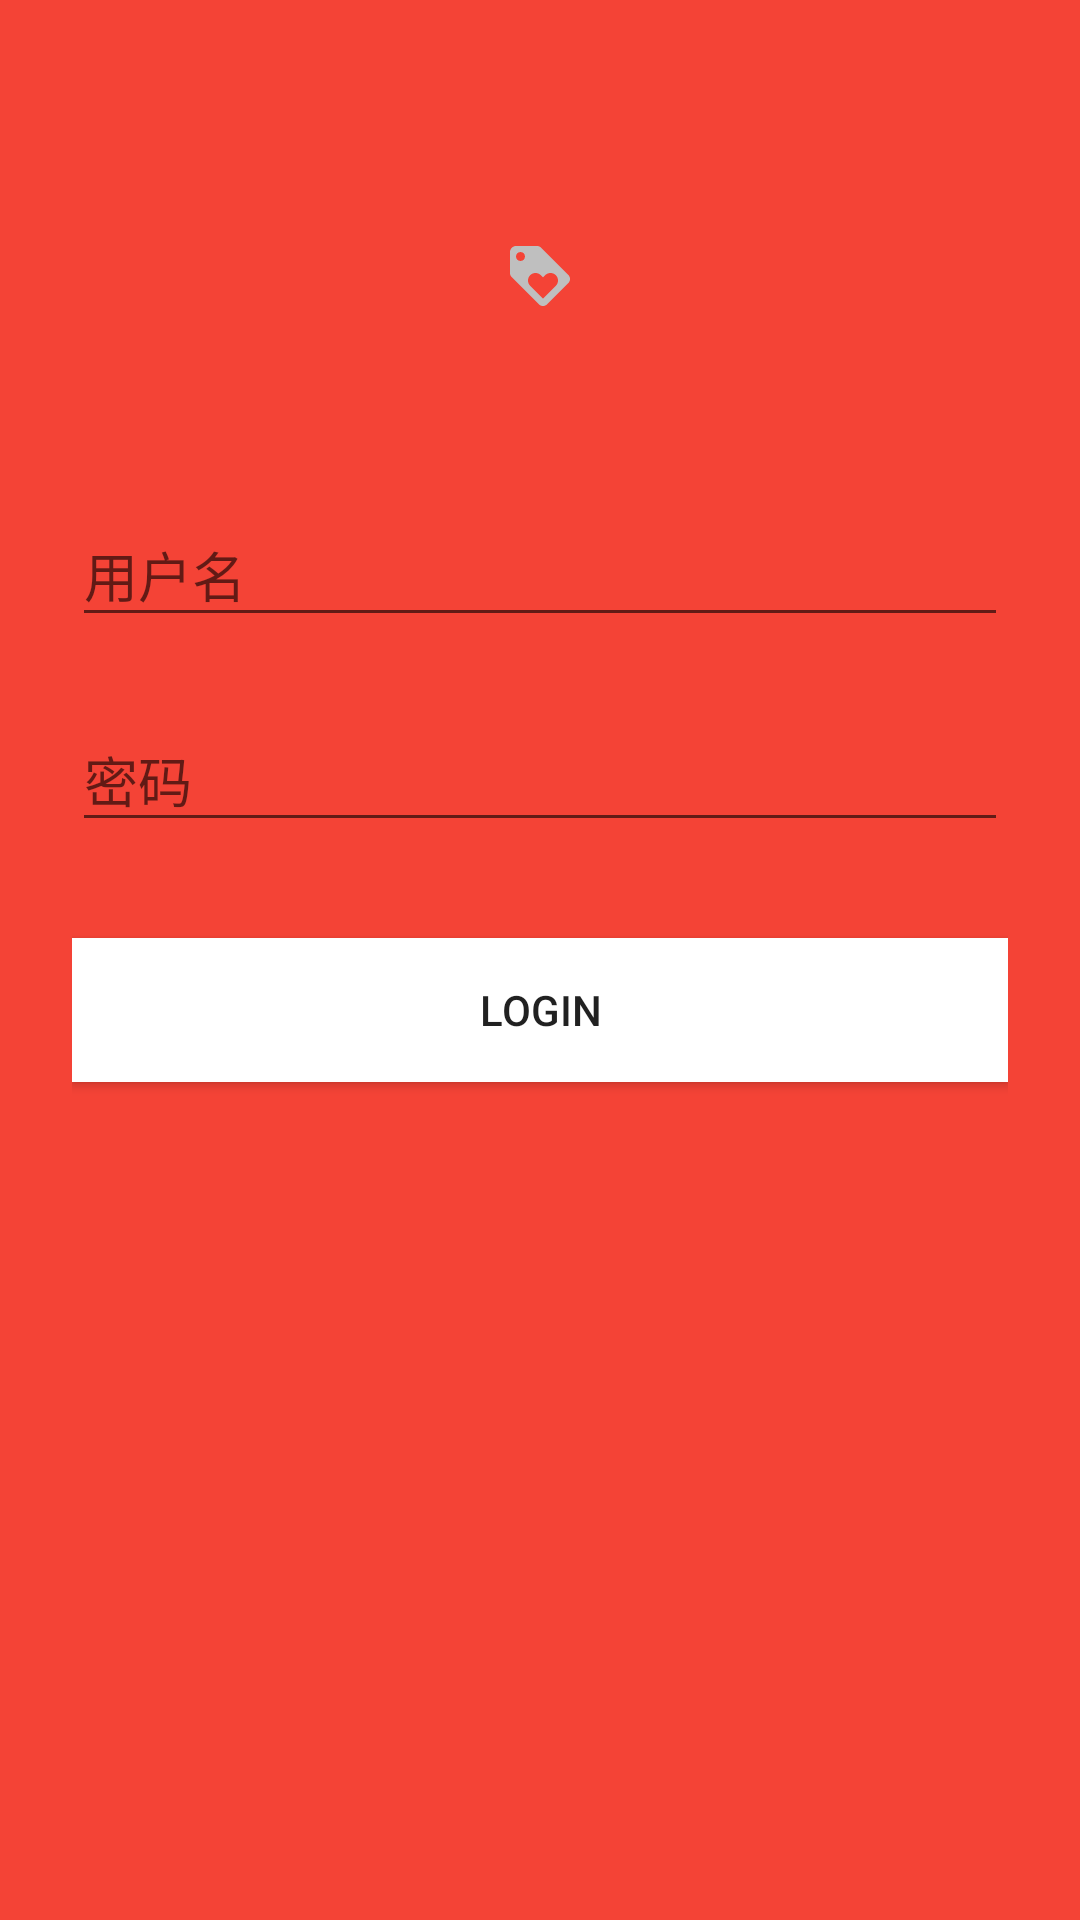

Screen size 1080w x 1920h. Icon name, then its box in pixels as (x1=x1, y1=y1, x2=x2, y2=y2):
loyalty: (x1=510, y1=246, x2=570, y2=306)
